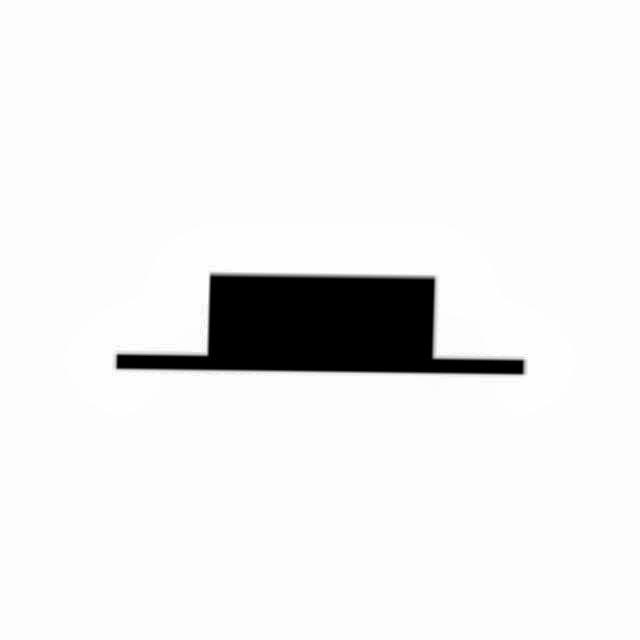Half-rest: (98, 257, 550, 407)
